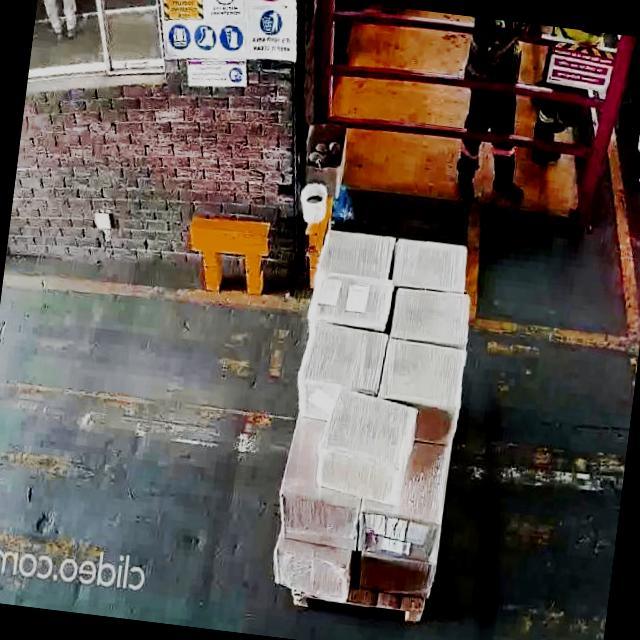Box: (308, 397, 426, 502), (296, 321, 386, 396), (380, 336, 468, 412), (276, 484, 361, 541), (388, 288, 472, 345), (359, 502, 443, 558), (311, 274, 394, 329), (395, 236, 471, 296), (316, 225, 398, 280), (274, 543, 349, 596), (355, 552, 437, 596)
